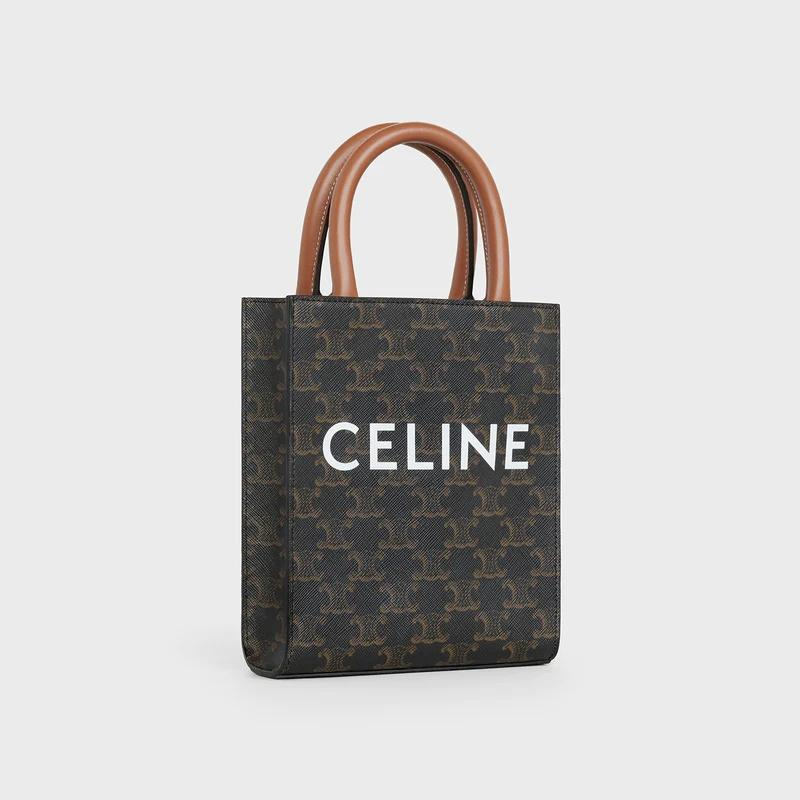CELINE: (323, 420, 532, 470)
